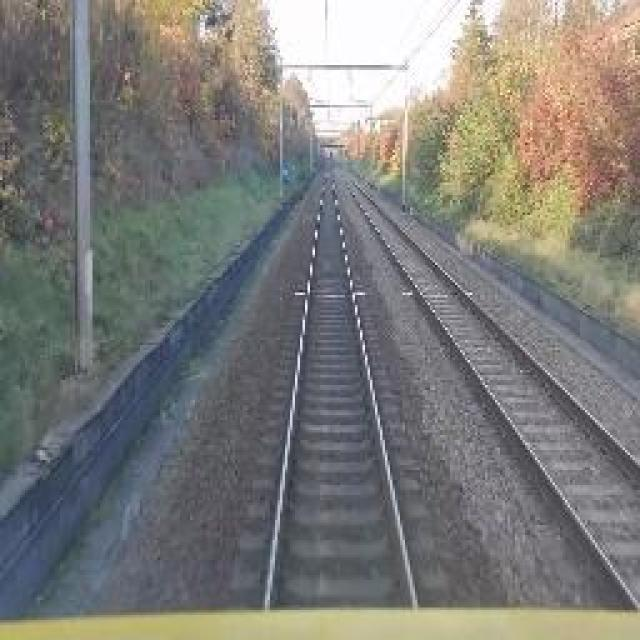rail: (333, 176, 640, 619), (237, 164, 461, 610)
